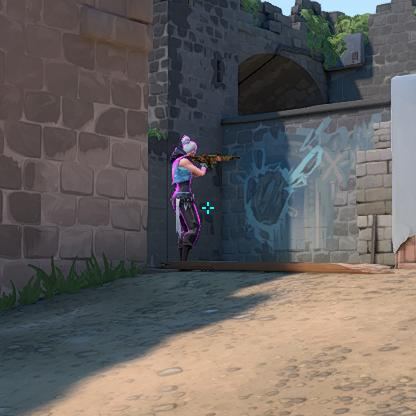enemyBody: (175, 162, 188, 193)
enemyHead: (184, 142, 194, 156)
